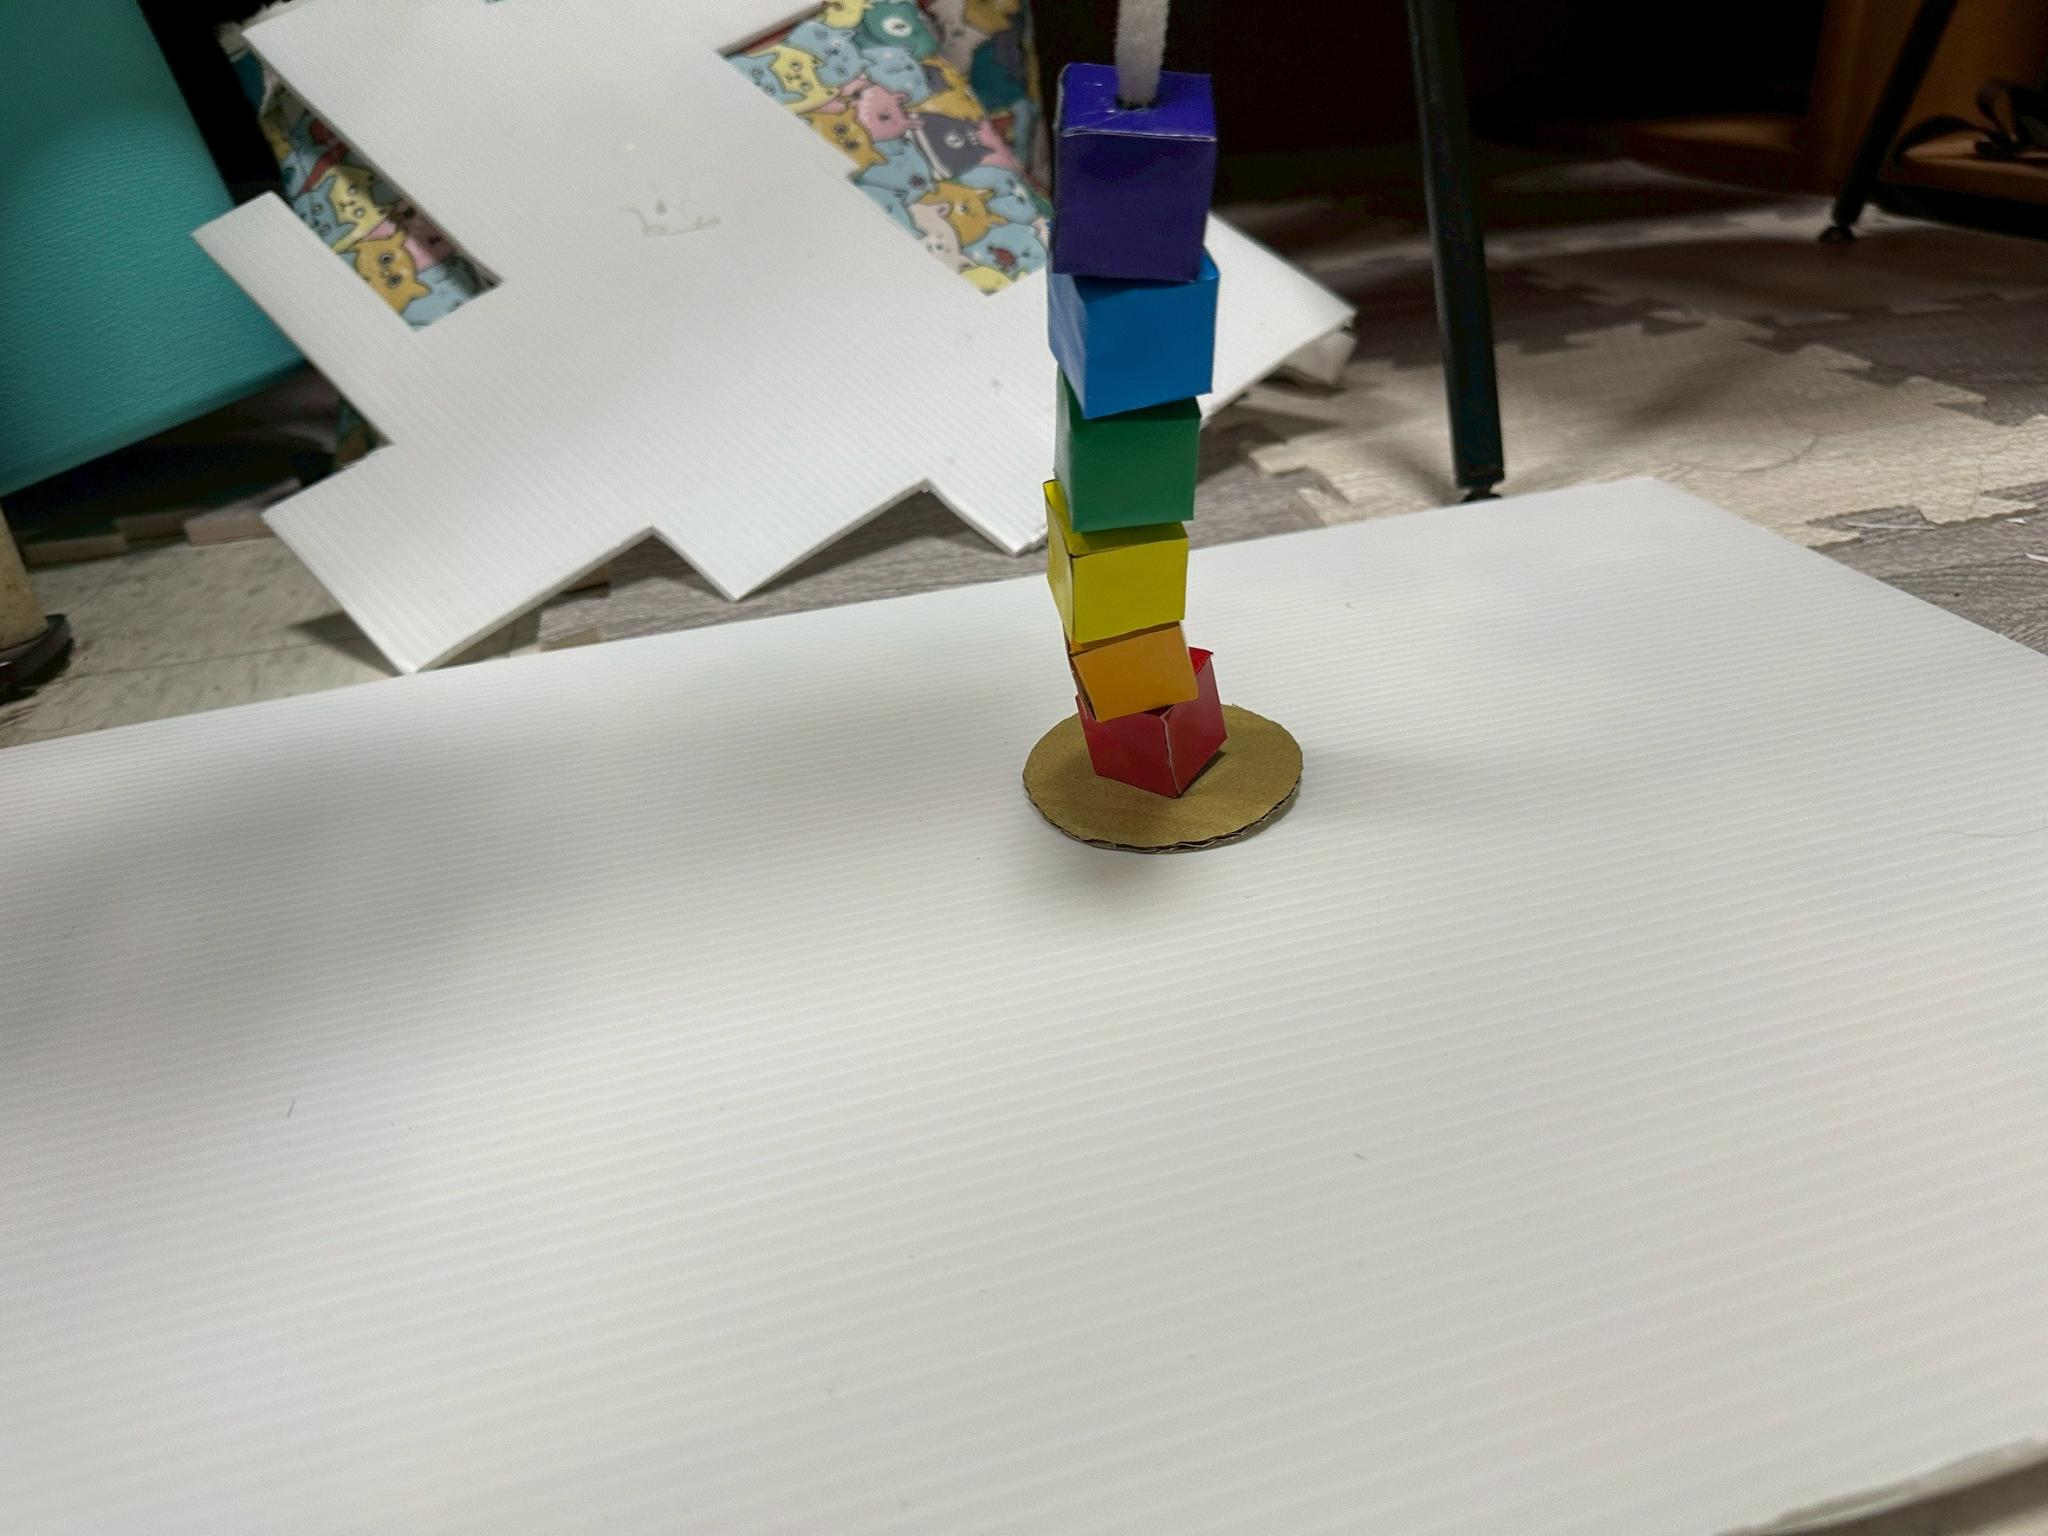base: (1024, 707, 1301, 850)
cube: (1051, 65, 1216, 279), (1050, 248, 1219, 418), (1055, 366, 1200, 532), (1048, 484, 1188, 650), (1076, 649, 1227, 799), (1071, 624, 1197, 721)
